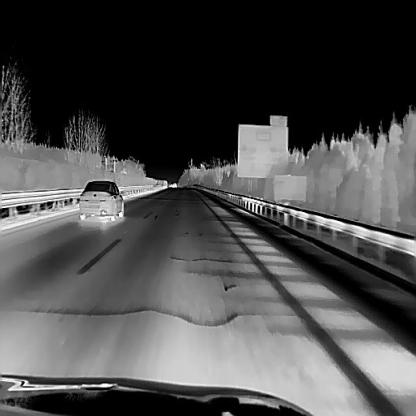car: (78, 180, 124, 221)
